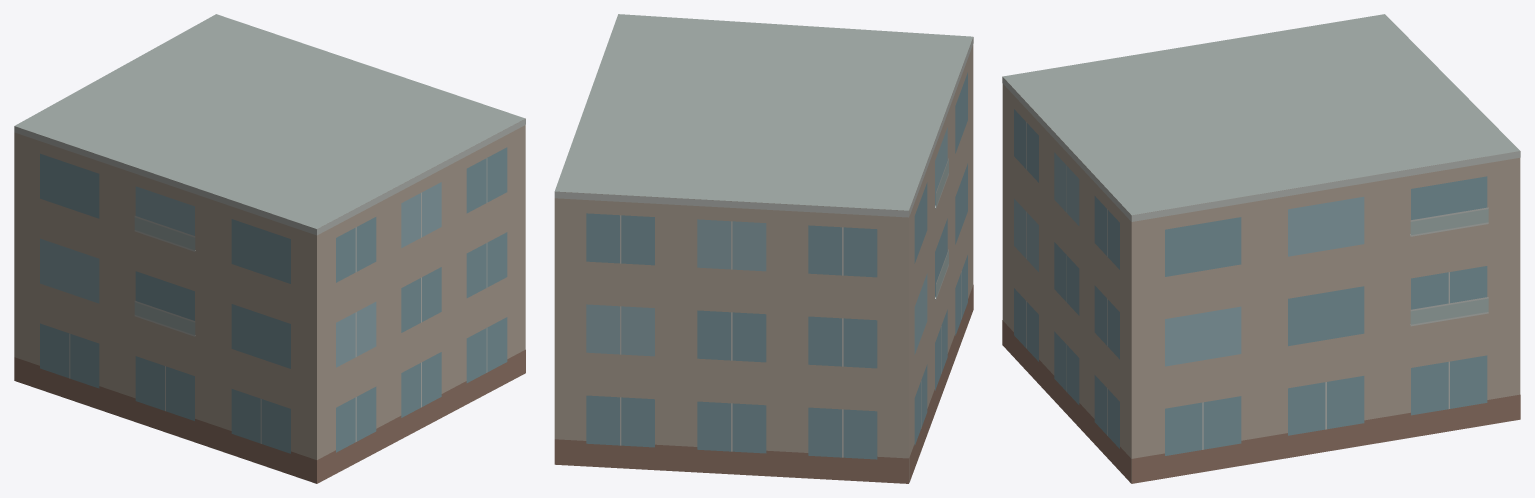
The model's file is survey-upis-32745551.glb.
3 renders of one model, left to right at view 1: azimuth 30°, elevation 25°; view 2: azimuth 150°, elevation 25°; view 3: azimuth 270°, elevation 25°, orthographic. The views are drawn at different scales.
Parts seen in each view (by area): view 1: survey-upis-32745551.tmp; view 2: survey-upis-32745551.tmp; view 3: survey-upis-32745551.tmp.
Part boxes in pixels (x1,y1,x2,y2): survey-upis-32745551.tmp: (14, 14, 525, 483); survey-upis-32745551.tmp: (554, 14, 973, 483); survey-upis-32745551.tmp: (1002, 14, 1520, 483).
Bounding box in the file's own units: 15.76 × 9.8 × 17.14.
